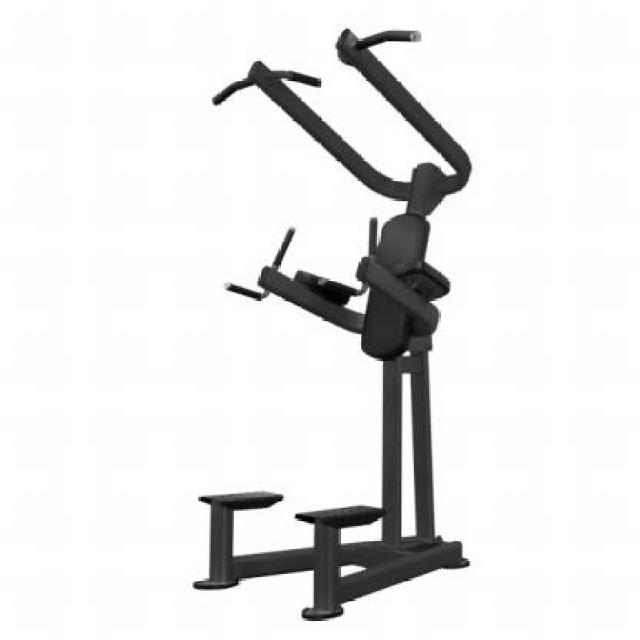chinning dipping: (192, 25, 471, 623)
